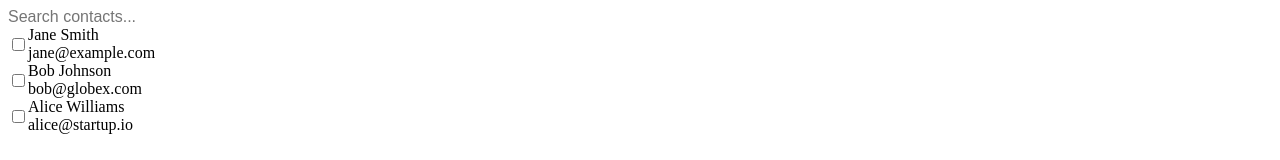
Test: ContactPicker › shows empty state when no matches
Type "xyz" into the field with placeholder "Search contacts...". click: (640, 17)
box: x1=8 y1=8 x2=1272 y2=26
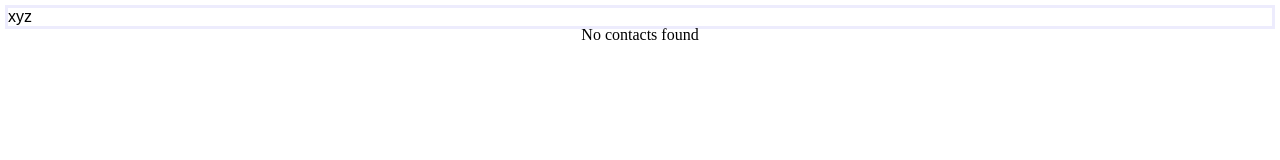
Check: the text "No contacts found" is shown, box x1=581 y1=26 x2=699 y2=43
